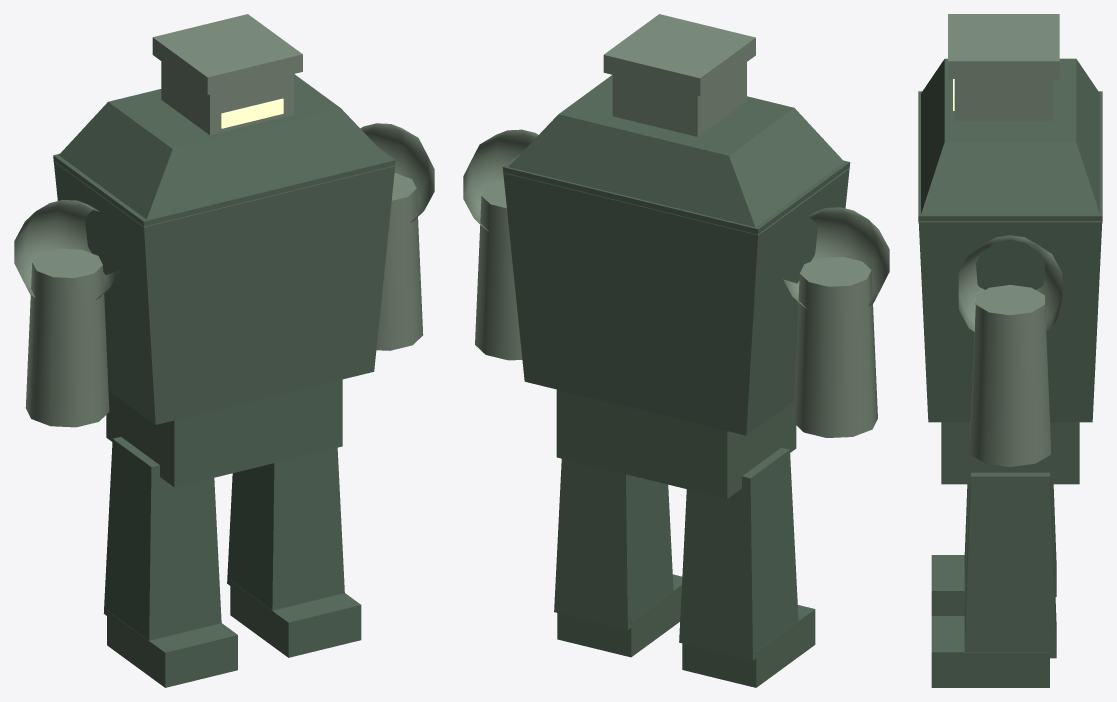
Rendered from enemy_brute.glb.
3 renders of one model, left to right at view 1: azimuth 30°, elevation 25°; view 2: azimuth 150°, elevation 25°; view 3: azimuth 270°, elevation 25°, orthographic.
Visible parts, largest first — view 1: torso, leg_l, leg_r, arm_l, head, arm_r, visor; view 2: torso, leg_l, leg_r, arm_l, head, arm_r; view 3: torso, leg_r, arm_r, head, leg_l.
Boxes of the visible parts, bbox=[...] form: torso: bbox=[53, 74, 395, 487]; leg_l: bbox=[103, 437, 237, 687]; leg_r: bbox=[227, 447, 361, 657]; arm_l: bbox=[14, 200, 118, 427]; head: bbox=[152, 14, 302, 135]; arm_r: bbox=[360, 123, 434, 350]; visor: bbox=[221, 98, 283, 128]; torso: bbox=[502, 75, 850, 498]; leg_l: bbox=[679, 447, 815, 687]; leg_r: bbox=[554, 459, 682, 657]; arm_l: bbox=[783, 207, 889, 437]; head: bbox=[603, 14, 755, 136]; arm_r: bbox=[463, 129, 538, 360]; torso: bbox=[918, 58, 1102, 484]; leg_r: bbox=[931, 472, 1056, 687]; arm_r: bbox=[958, 235, 1062, 466]; head: bbox=[948, 14, 1059, 120]; leg_l: bbox=[931, 484, 1056, 615].
Bounding box in the file's own units: 1.45 × 2.02 × 0.56.
